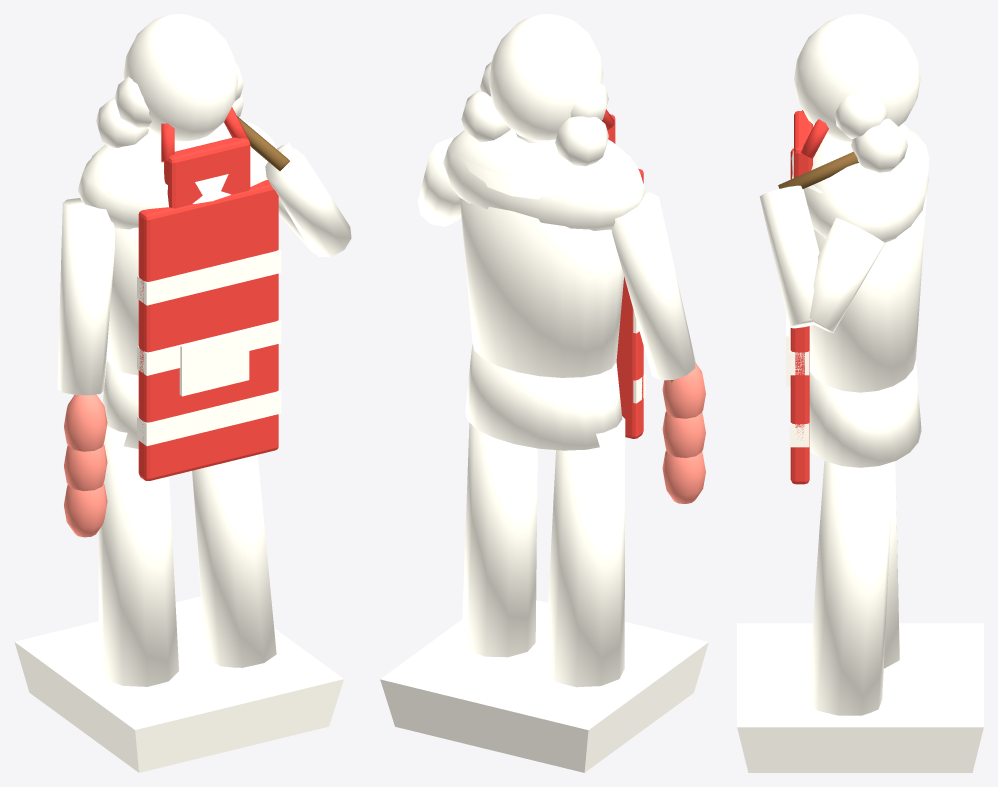
The model's file is david.glb.
3 renders of one model, left to right at view 1: azimuth 30°, elevation 25°; view 2: azimuth 150°, elevation 25°; view 3: azimuth 270°, elevation 25°, orthographic. The views are drawn at different scales.
Visible parts, largest first — view 1: david_peana, david_delantal, david_pierna_dcha, david_pierna_izq, david_cabeza, david_brazo_dcho, david_hombros, david_brazo_izq_2, david_torso, david_delantal_pecho, david_bolsillo, david_cuadro_0 (+9 smaller); view 2: david_peana, david_torso, david_pierna_dcha, david_pierna_izq, david_hombros, david_caderas, david_cabeza, david_brazo_dcho, david_delantal, david_brazo_izq_1, david_rizo_3, david_salchicha_2 (+4 smaller); view 3: david_peana, david_pierna_izq, david_torso, david_cabeza, david_caderas, david_hombros, david_brazo_izq_2, david_brazo_izq_1, david_delantal, david_rizo_4, david_pierna_dcha, david_rizo_2 (+5 smaller).
Boxes of the visible parts, bbox=[...] form: david_peana: bbox=[14, 596, 343, 772]; david_delantal: bbox=[138, 180, 278, 480]; david_pierna_dcha: bbox=[98, 426, 178, 686]; david_pierna_izq: bbox=[192, 455, 276, 667]; david_cabeza: bbox=[123, 14, 238, 141]; david_brazo_dcho: bbox=[57, 198, 114, 395]; david_hombros: bbox=[78, 119, 276, 229]; david_brazo_izq_2: bbox=[265, 148, 351, 256]; david_torso: bbox=[92, 151, 262, 375]; david_delantal_pecho: bbox=[164, 137, 250, 208]; david_bolsillo: bbox=[179, 329, 249, 396]; david_cuadro_0: bbox=[137, 389, 281, 445]; david_peana: bbox=[380, 600, 708, 772]; david_torso: bbox=[457, 152, 631, 377]; david_pierna_dcha: bbox=[544, 416, 625, 687]; david_pierna_izq: bbox=[461, 423, 537, 657]; david_hombros: bbox=[443, 129, 645, 230]; david_caderas: bbox=[465, 343, 622, 450]; david_cabeza: bbox=[489, 14, 603, 140]; david_brazo_dcho: bbox=[611, 192, 695, 380]; david_delantal: bbox=[616, 168, 643, 438]; david_brazo_izq_1: bbox=[417, 137, 460, 226]; david_rizo_3: bbox=[555, 116, 608, 166]; david_salchicha_2: bbox=[662, 450, 705, 503]; david_peana: bbox=[737, 623, 983, 772]; david_pierna_izq: bbox=[807, 461, 893, 715]; david_torso: bbox=[791, 129, 929, 392]; david_cabeza: bbox=[794, 14, 920, 141]; david_caderas: bbox=[809, 360, 921, 467]; david_hombros: bbox=[792, 123, 929, 242]; david_brazo_izq_2: bbox=[759, 185, 819, 328]; david_brazo_izq_1: bbox=[809, 217, 884, 332]; david_delantal: bbox=[790, 148, 809, 484]; david_rizo_4: bbox=[851, 118, 907, 172]; david_pierna_dcha: bbox=[883, 461, 899, 668]; david_rizo_2: bbox=[834, 93, 887, 138].
Bounding box in the file's own units: 0.2085 × 0.492 × 0.1556.
